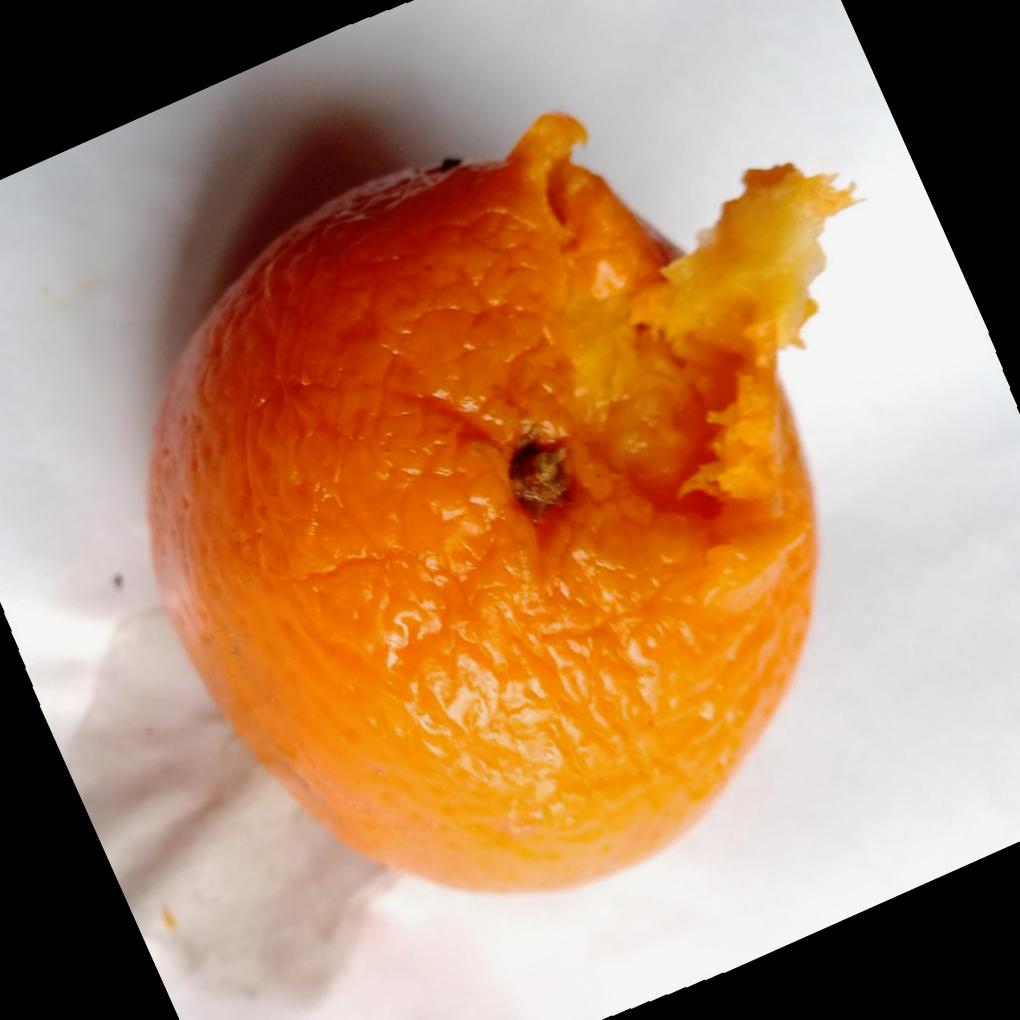FreshOrange: (143, 107, 862, 895)
